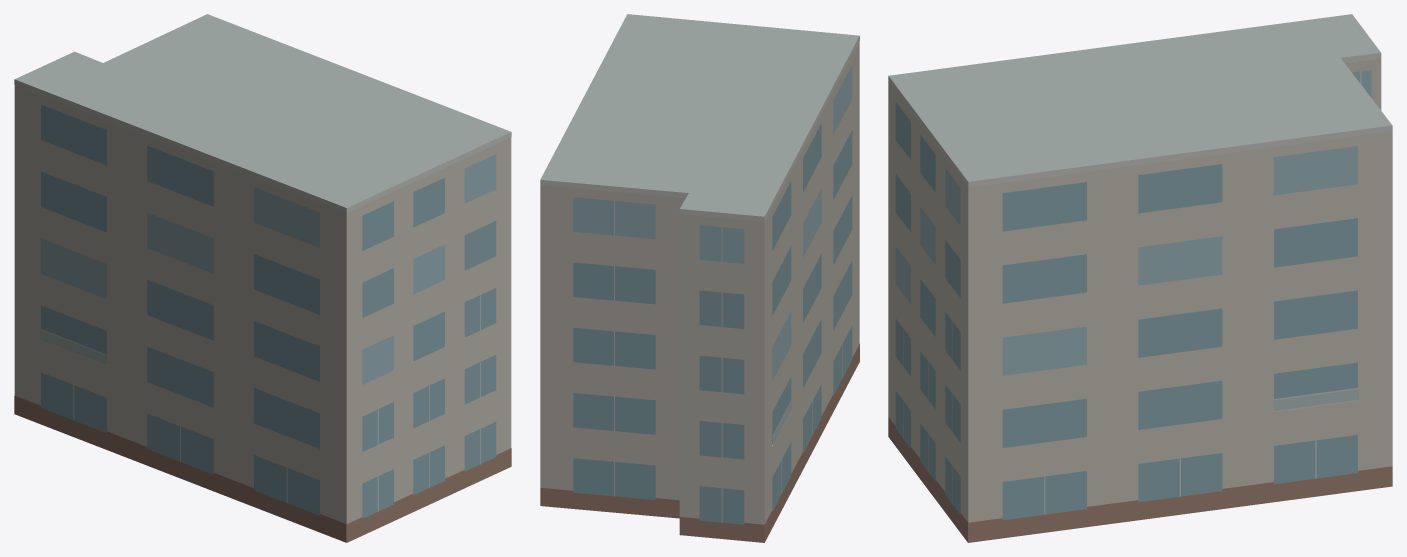
File: survey-upis-32682102.glb
The picture shows the model from 3 angles, left to right: view 1: azimuth 30°, elevation 25°; view 2: azimuth 150°, elevation 25°; view 3: azimuth 270°, elevation 25°; orthographic projection. The views are drawn at different scales.
Visible parts, largest first — view 1: survey-upis-32682102.tmp; view 2: survey-upis-32682102.tmp; view 3: survey-upis-32682102.tmp.
Boxes of the visible parts, x1,y1,x2,y2 form: survey-upis-32682102.tmp: (14, 14, 511, 542); survey-upis-32682102.tmp: (540, 14, 859, 542); survey-upis-32682102.tmp: (888, 14, 1392, 542).
Size of the model in its own units: 15.21 by 15.25 by 19.3.
